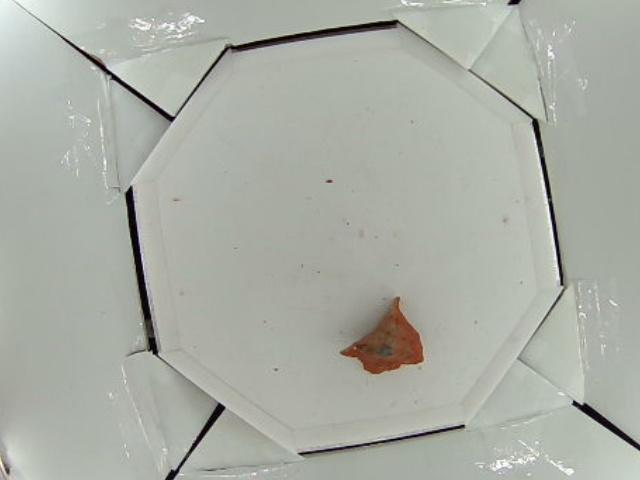Brisk: (342, 296, 425, 372)
